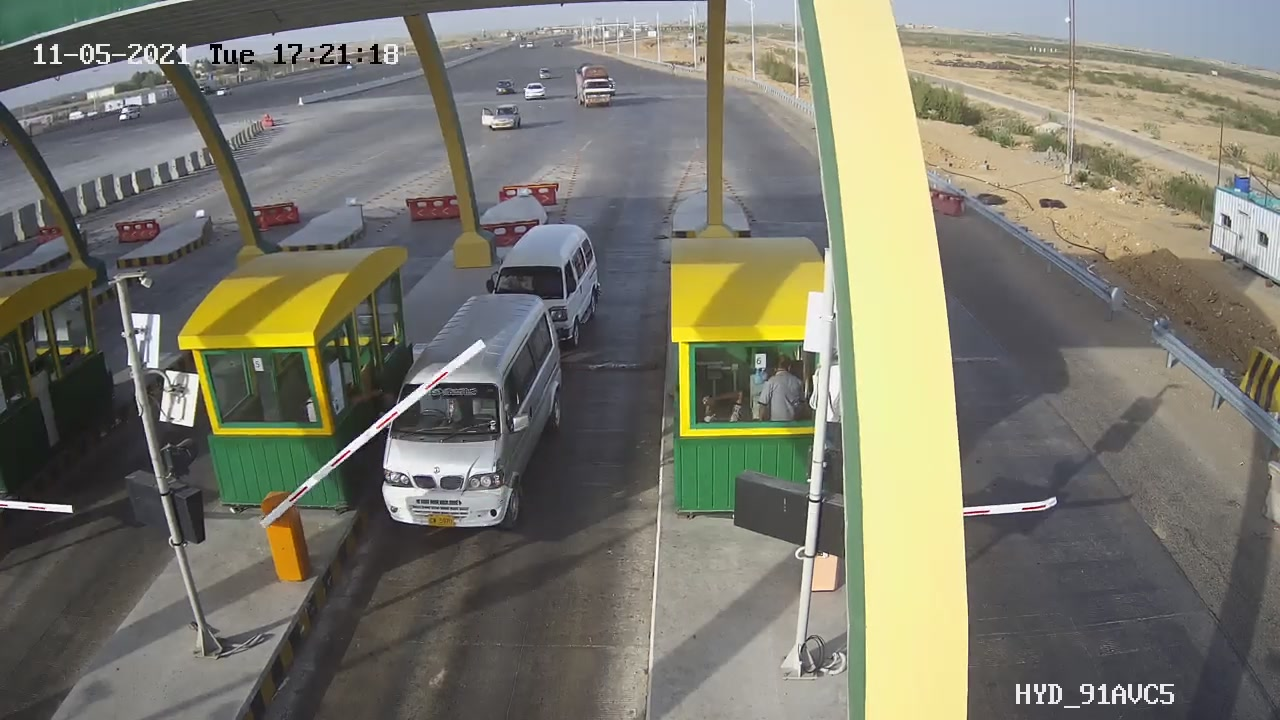F2: (365, 282, 582, 547)
